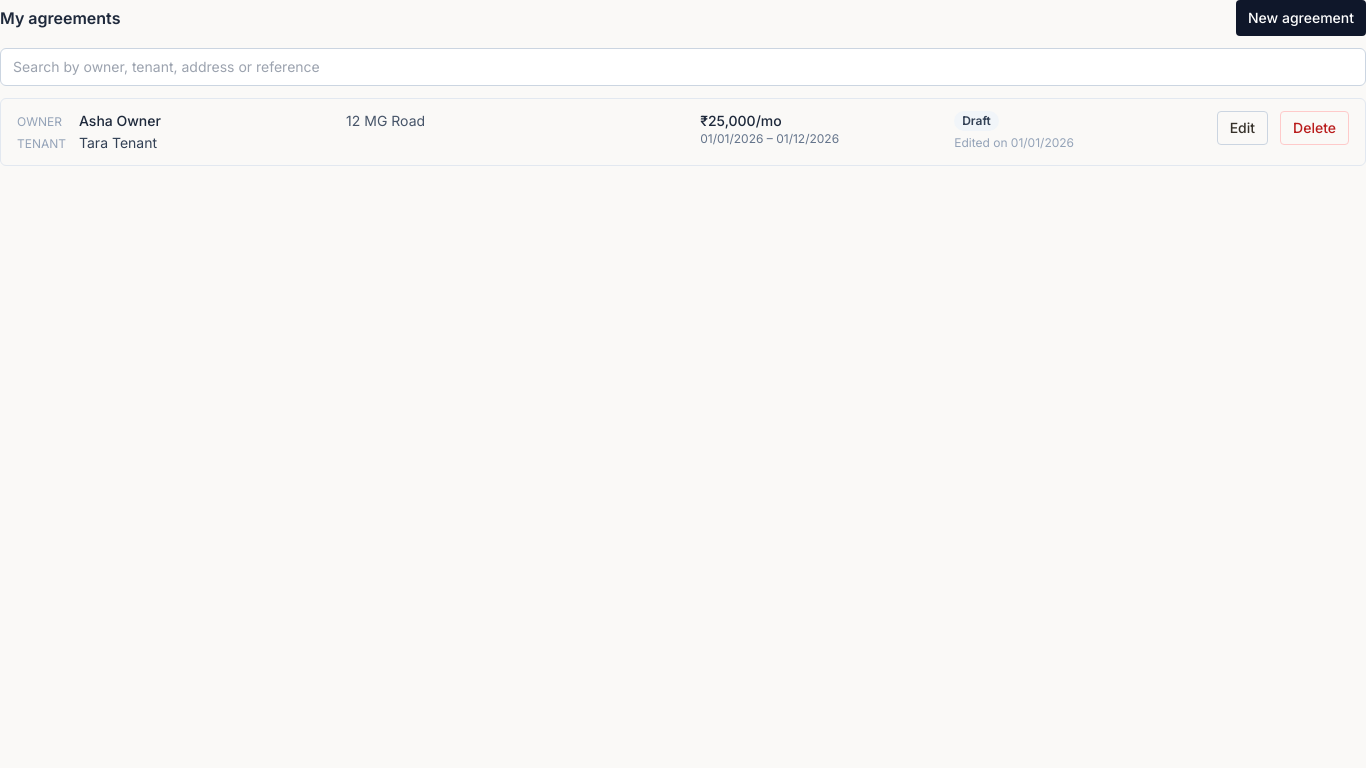
MyAgreements › delete › an unexpected failure says so and keeps the row
Click the button with test id "delete-d1" at (1315, 128), box [1280,111,1349,145]
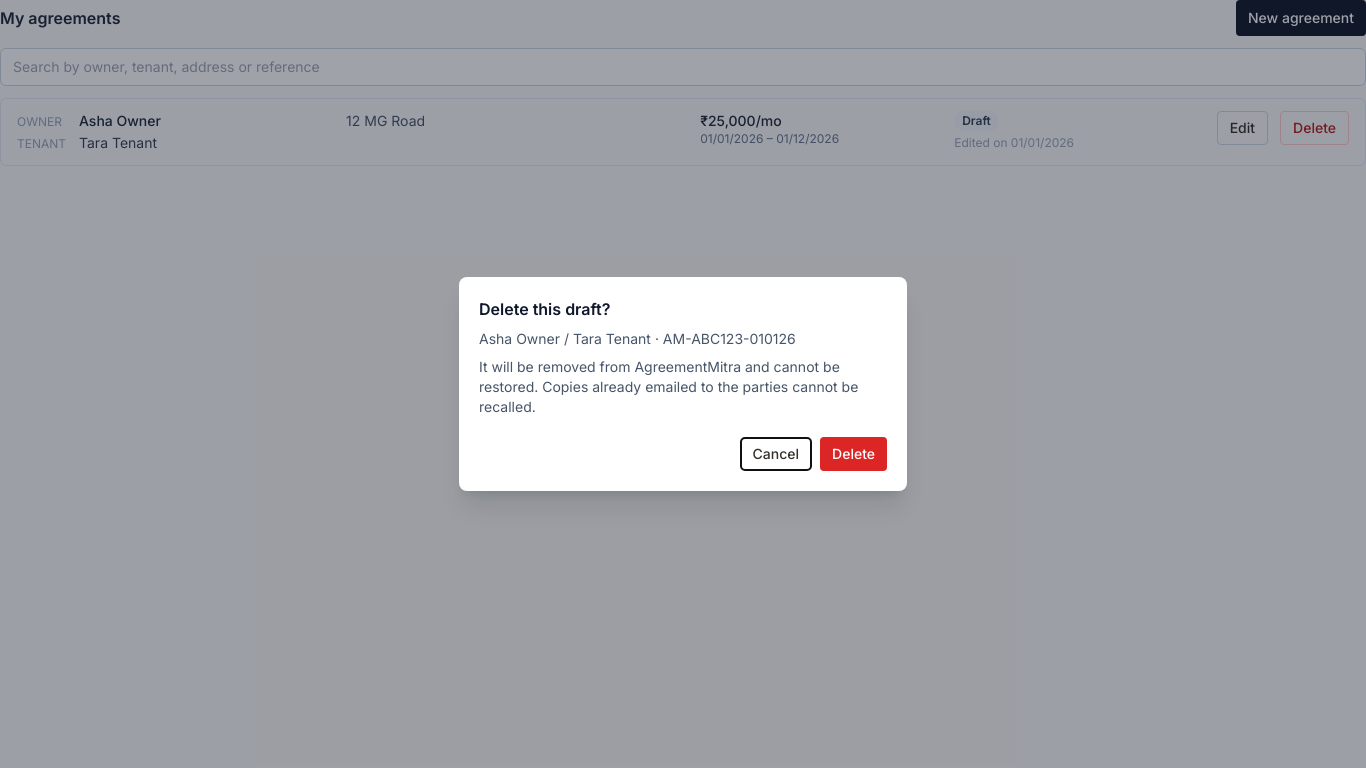
Click the button with test id "confirm-ok" at (854, 454), box [820,437,887,471]
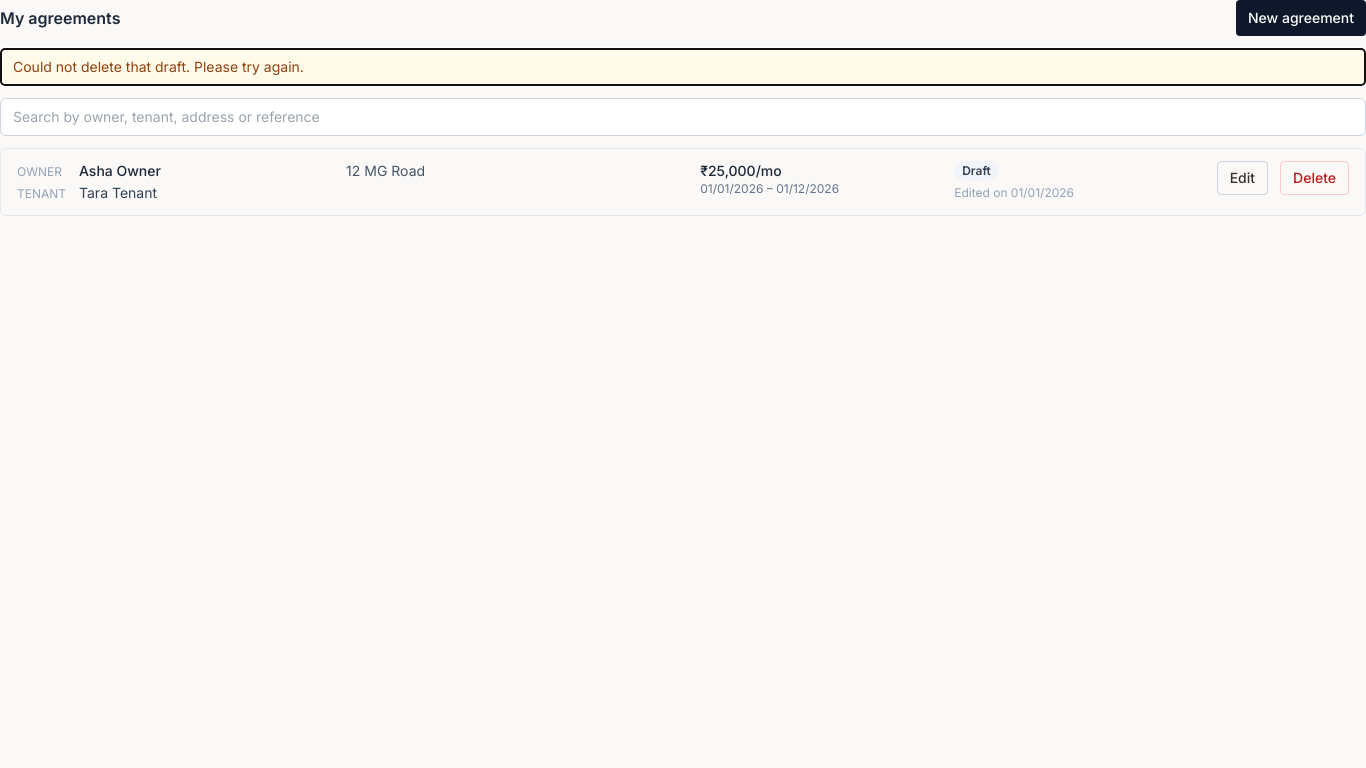
expect the list item with test id "row-d1" is shown: met, box [0,148,1365,216]
expect the message with test id "list-notice" shows "Could not delete": met, box [13,58,304,75]
